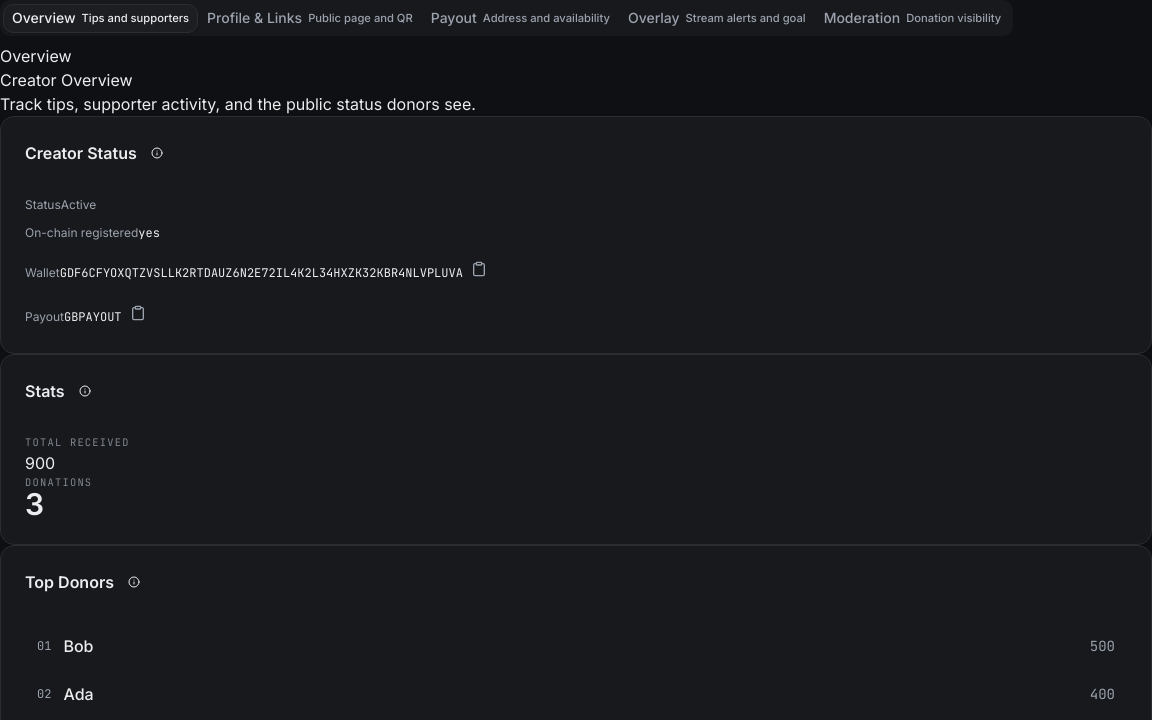
Test case: ActiveGate - moderation › lists donations including hidden in the moderation list
Click the tab "Moderation Donation visibility".
click(912, 18)  # box x1=815 y1=4 x2=1010 y2=32
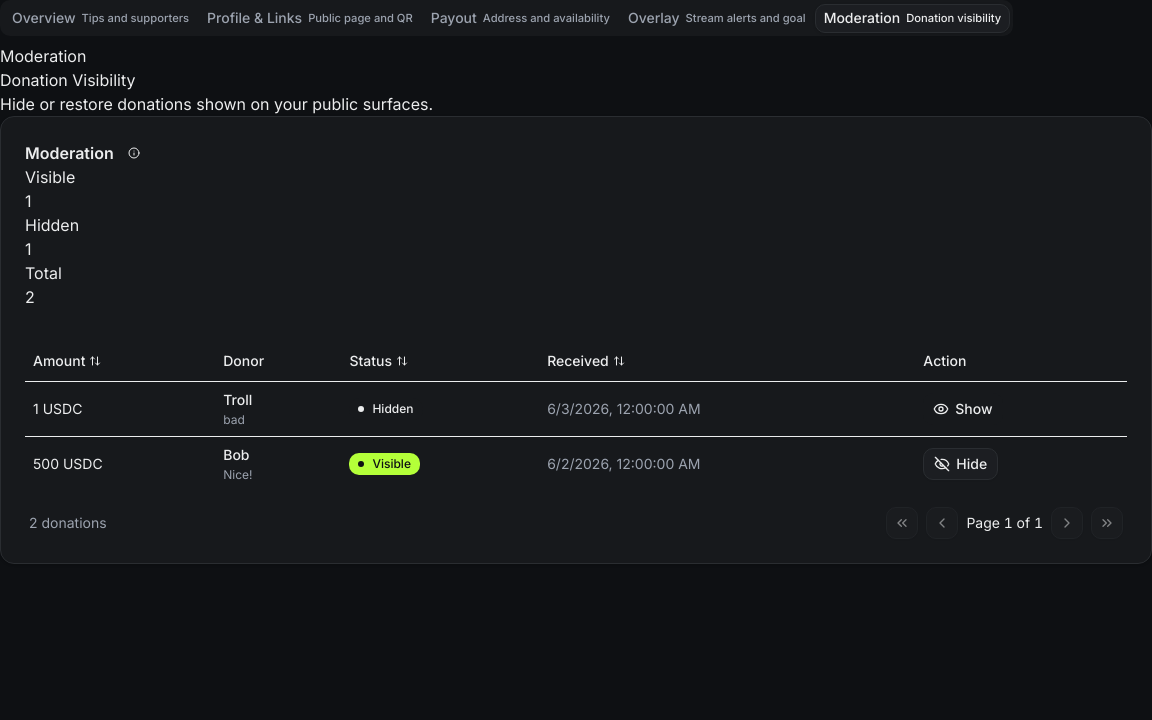
Check: the element with test id "moderation-list" shows "Bob", box x1=223 y1=446 x2=250 y2=462
Check: the element with test id "moderation-list" shows "Troll", box x1=223 y1=390 x2=252 y2=408
